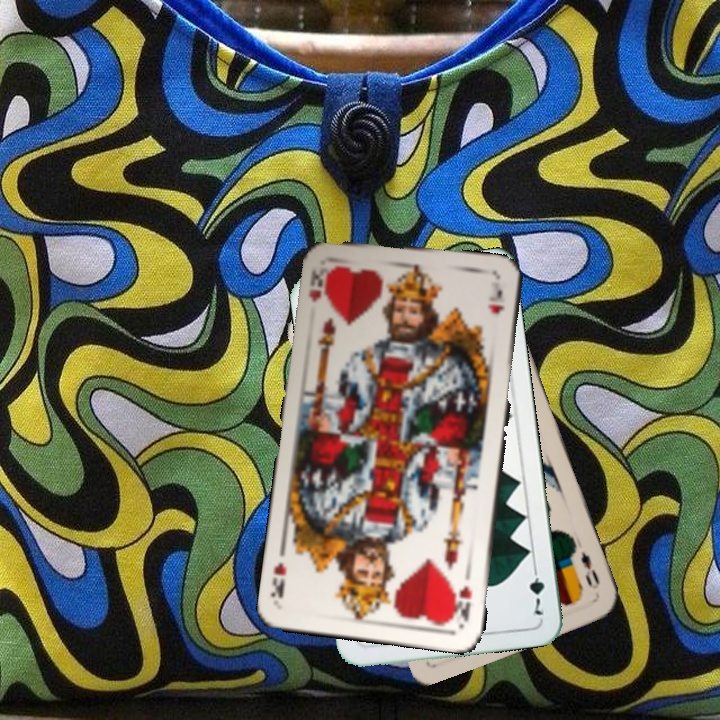EO: (576, 547, 603, 592)
G7: (525, 560, 547, 618)
HK: (449, 568, 475, 627), (304, 263, 334, 306)
